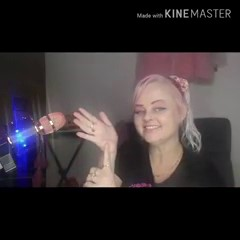T: (70, 106, 127, 192)
